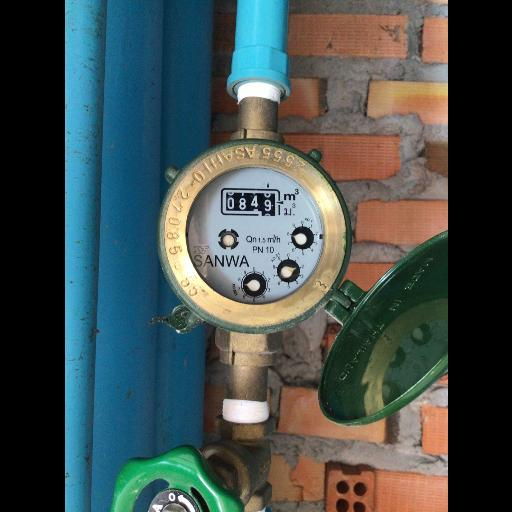0: (226, 193, 236, 212)
4: (248, 193, 261, 212)
8: (236, 193, 249, 212)
9: (261, 194, 275, 217)
border_water_meter_number: (220, 188, 281, 217)
